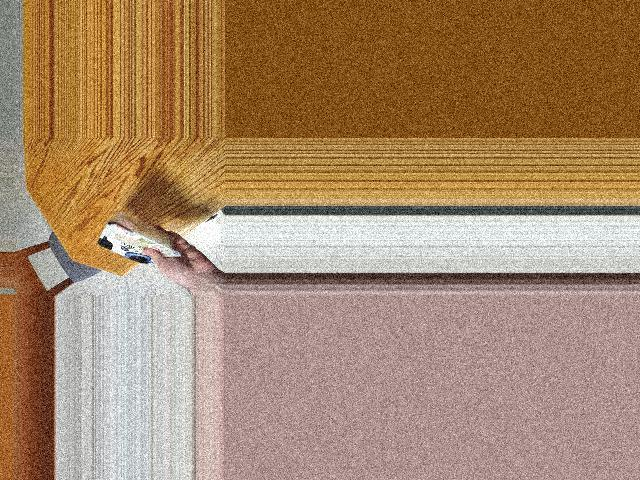cheese: (101, 213, 168, 276)
